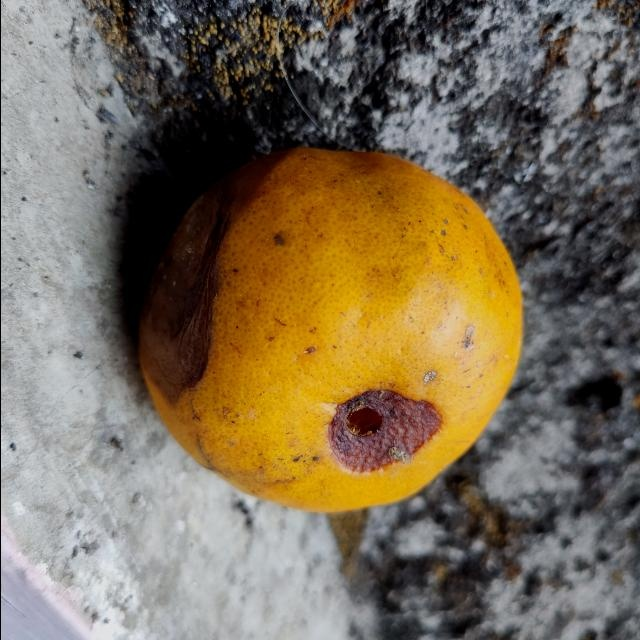agrume: (133, 145, 523, 515)
